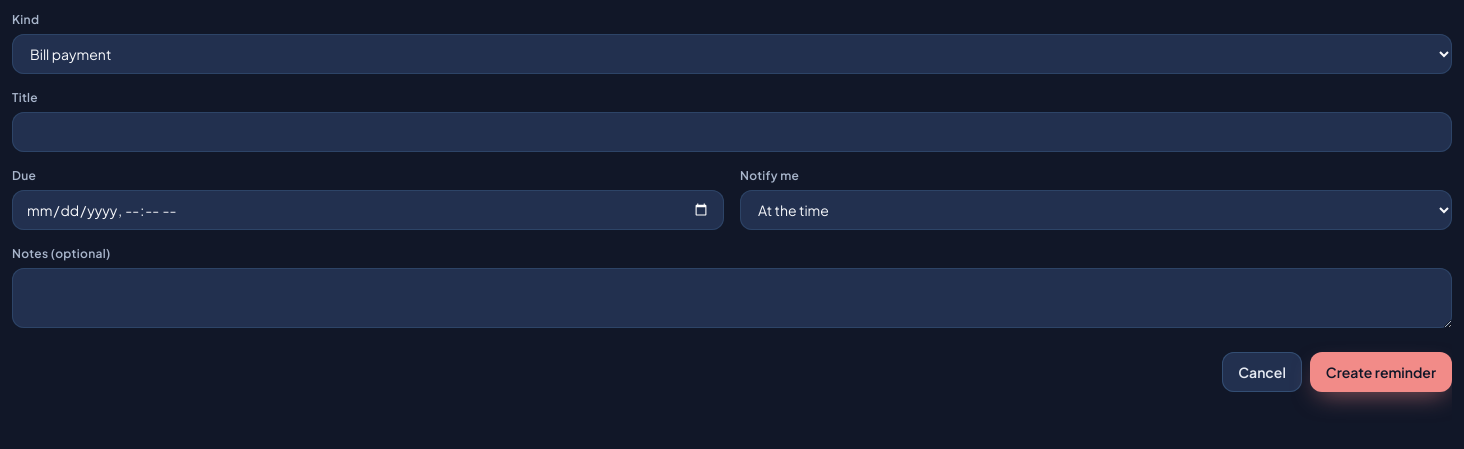
ReminderForm › budget alerts have a threshold instead of a date
Select "Budget alert" in the dropdown labelled "Kind" at (732, 54), box [12, 34, 1452, 74]
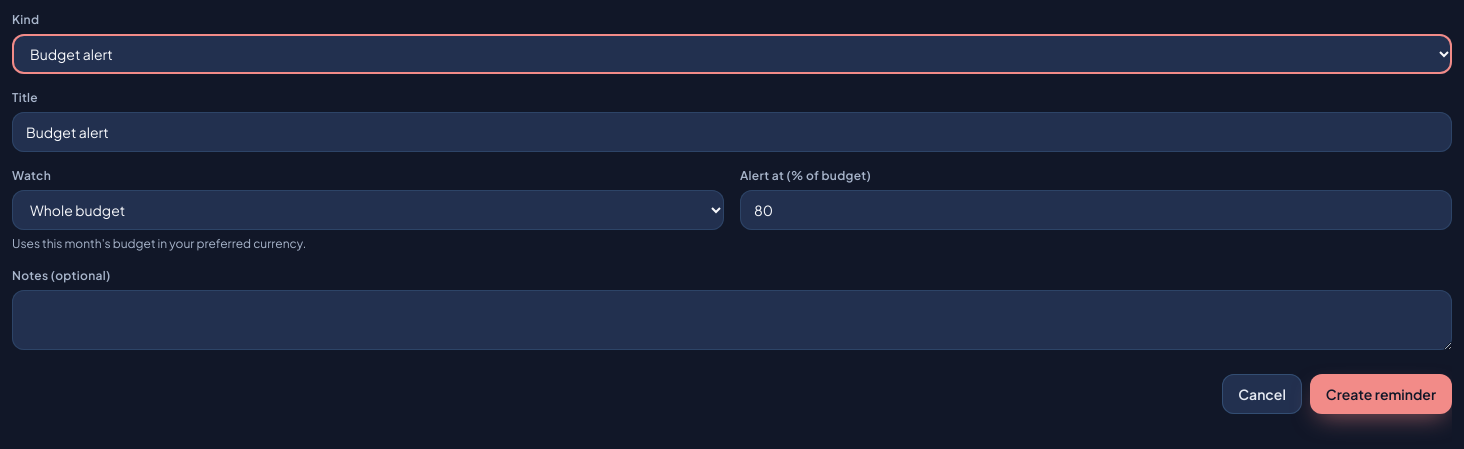
Expected: the label labelled "Due" is gone
Expected: the field labelled "Alert at (% of budget)" holds "80", [740, 190, 1452, 230]
